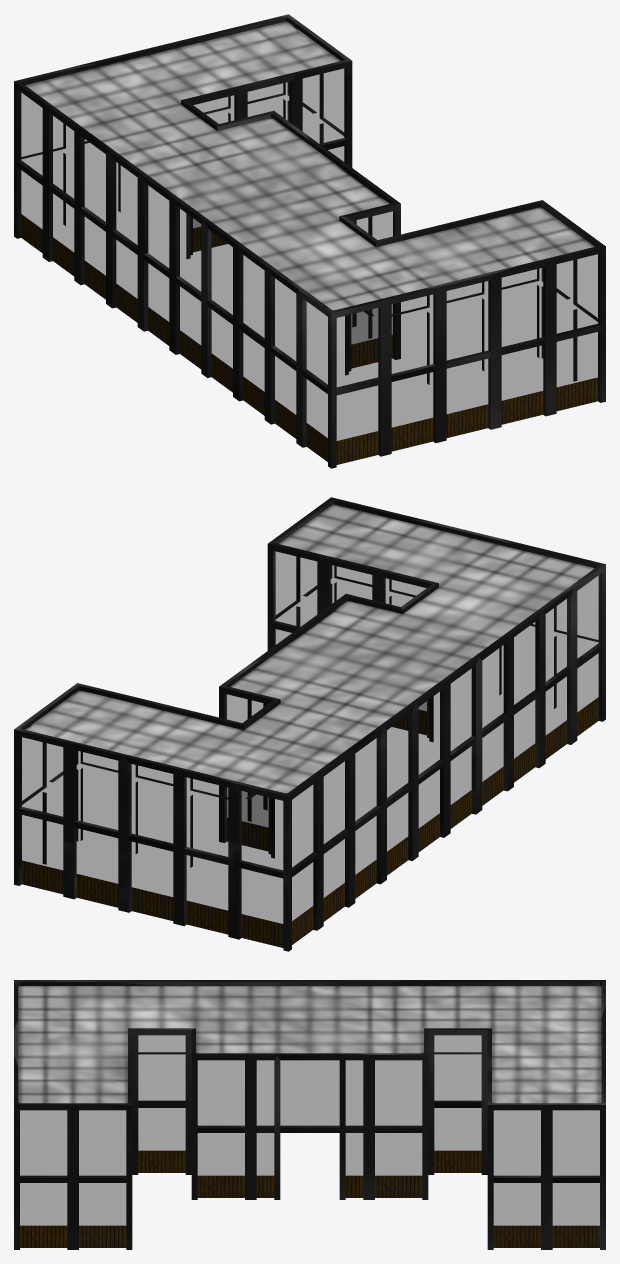
The model's file is vedals_house.gltf.
3 views of the same model, one above another, from view 1: azimuth 30°, elevation 25°; view 2: azimuth 150°, elevation 25°; view 3: azimuth 270°, elevation 25° (orthographic). The views are drawn at different scales.
Parts seen in each view (by area): view 1: vedal's_house.001, vedal's_house.003, windows.003, windows.002, vedal's_house.004, vedal's_house.002, windows.001, windows.004; view 2: vedal's_house.001, vedal's_house.004, windows.003, windows.001, vedal's_house.003, vedal's_house.002, windows.002, windows.004; view 3: vedal's_house.001, vedal's_house.002, vedal's_house.003, vedal's_house.004, windows.004, windows.003, windows.001, windows.002.
Part boxes in pixels (box(x1,y1,x2,y2)): vedal's_house.001: box(14, 81, 377, 468); vedal's_house.003: box(331, 200, 605, 468); windows.003: box(21, 93, 327, 437); windows.002: box(337, 254, 597, 440); vedal's_house.004: box(14, 14, 352, 254); vedal's_house.002: box(217, 111, 400, 371); windows.001: box(193, 68, 343, 227); windows.004: box(351, 211, 392, 343); vedal's_house.001: box(242, 564, 605, 951); vedal's_house.004: box(14, 683, 288, 951); windows.003: box(292, 576, 598, 920); windows.001: box(22, 737, 282, 923); vedal's_house.003: box(267, 497, 605, 737); vedal's_house.002: box(219, 594, 402, 854); windows.002: box(276, 551, 426, 710); windows.004: box(227, 694, 268, 826); vedal's_house.001: box(14, 980, 605, 1174); vedal's_house.002: box(191, 1028, 428, 1199); vedal's_house.003: box(14, 980, 132, 1249); vedal's_house.004: box(487, 980, 605, 1249); windows.004: box(198, 1060, 421, 1175); windows.003: box(138, 1035, 481, 1150); windows.001: box(494, 1110, 599, 1225); windows.002: box(20, 1110, 125, 1225).
Size of the model in its own units: 20 by 10.8 by 40.
Materials: 1 (1 with a texture image).
